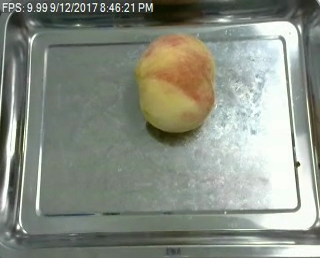Peach: (135, 31, 217, 133)
